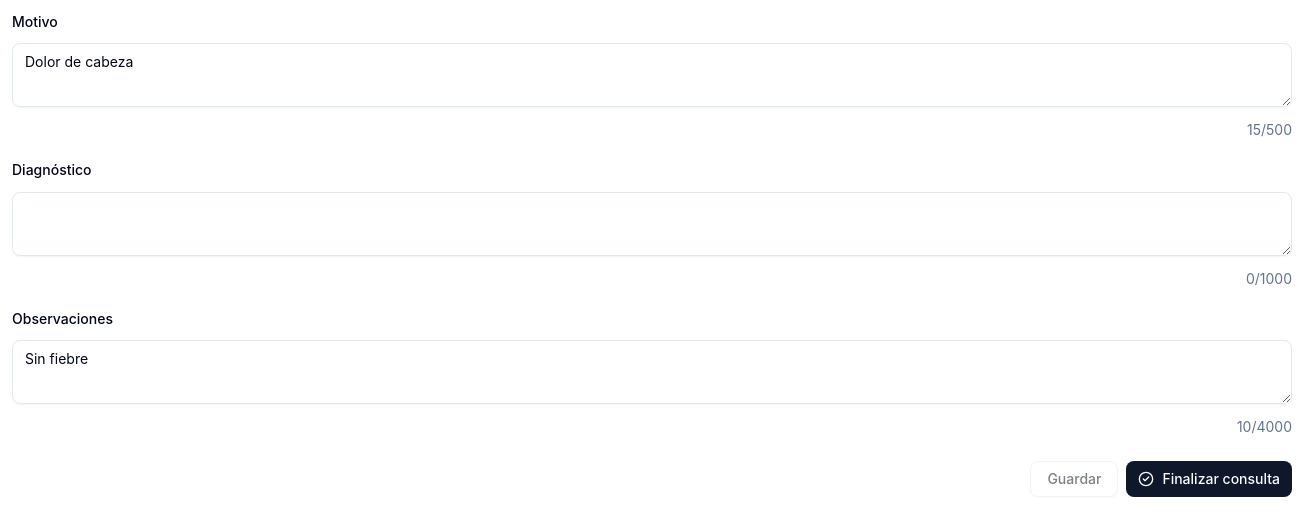
Test case: ConsultationForm › disables Guardar until something changes
This screenshot has width=1304, height=514.
Expected: the button "Guardar" is disabled, 1030,461 -> 1118,497
Type "Cefalea" into the text box labelled "Diagnóstico".
click(652, 224); type("Cefalea")  # box 12,192 -> 1292,256
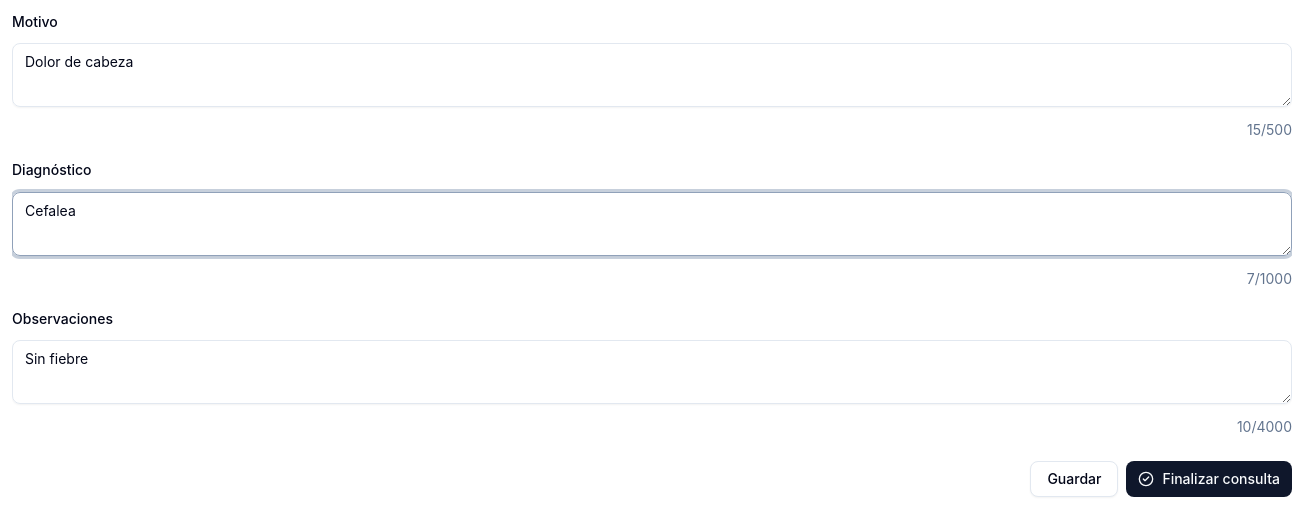
Result: the button "Guardar" is enabled at 1030,461 -> 1118,497
